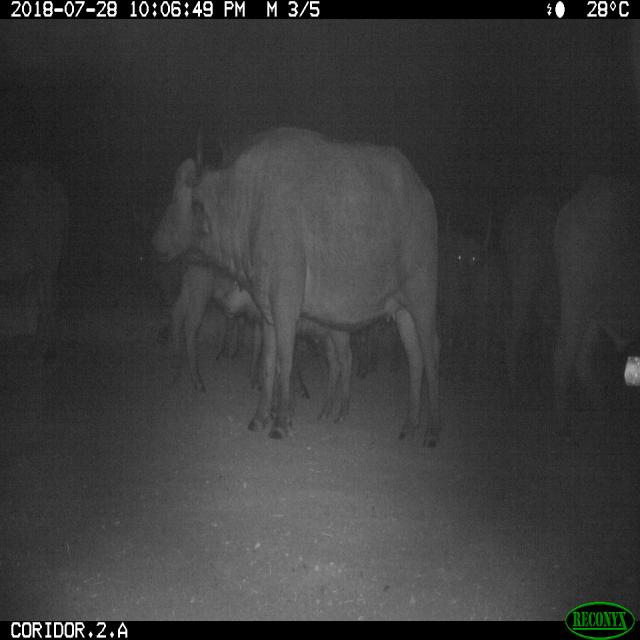buffalo: (158, 128, 440, 441)
